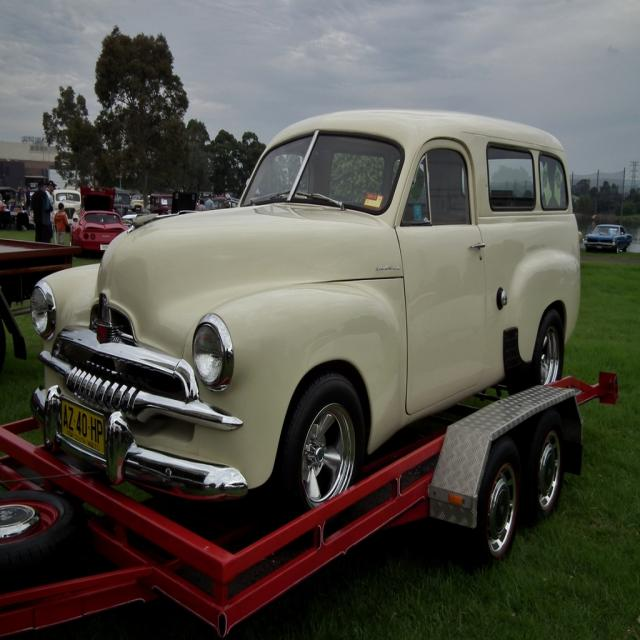car: (27, 106, 582, 533), (582, 225, 632, 253)
